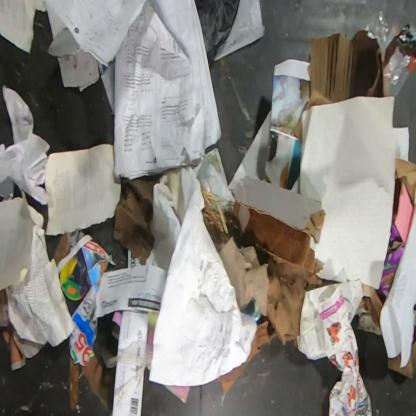cardboard: (215, 201, 338, 395), (304, 30, 384, 110), (232, 177, 322, 231), (113, 175, 159, 265), (379, 184, 414, 296), (47, 27, 104, 92), (69, 286, 98, 367), (387, 332, 415, 379), (394, 159, 416, 205), (52, 232, 72, 266)
soft_plastic: (362, 9, 415, 98)
